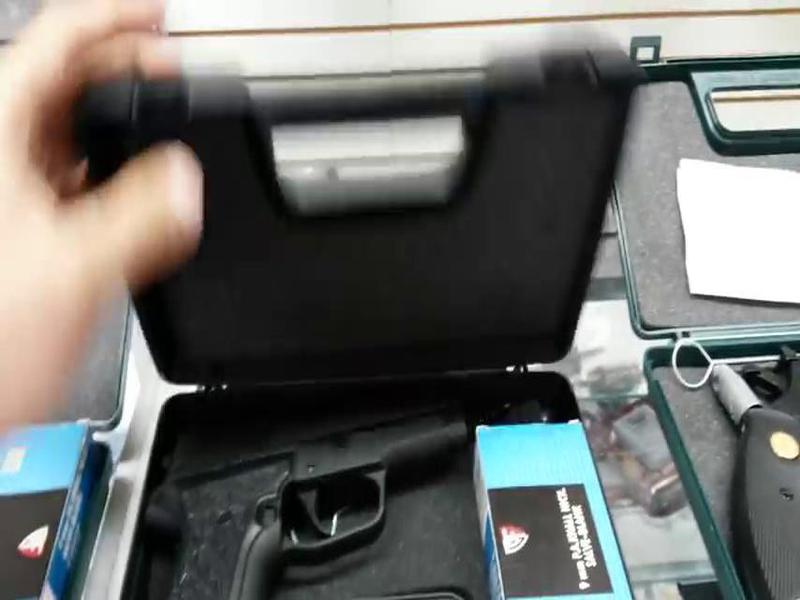Pistola: (145, 394, 467, 600)
